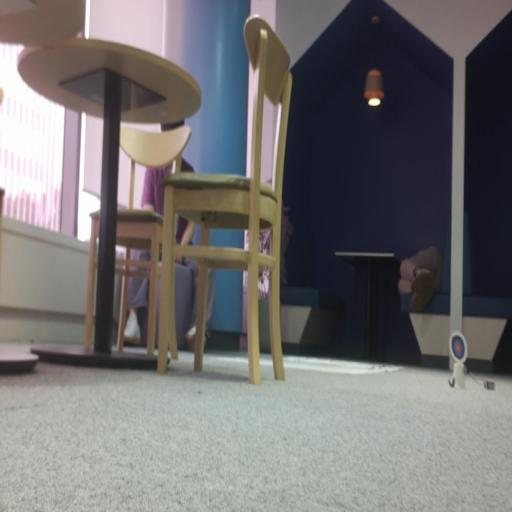target: (450, 331, 467, 365)
